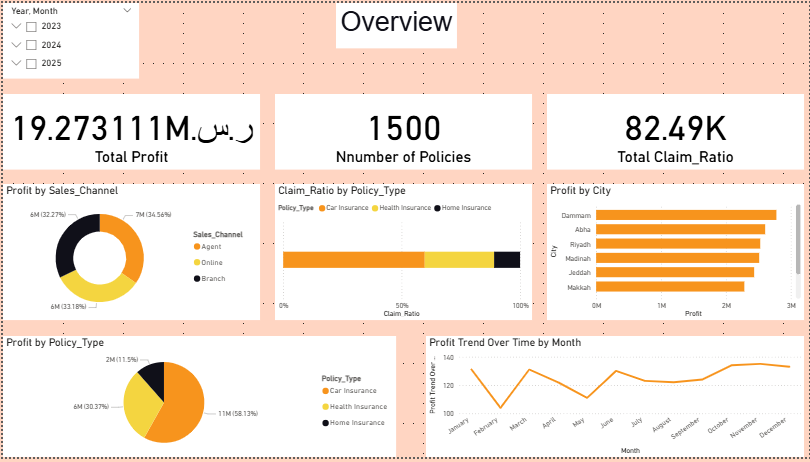

What the dashboard file says about the page in this screenshot:
{"tool":"powerbi","page":{"name":"Overview","canvas":[1280,720],"ordinal":0},"visuals":[{"type":"textbox","box":[528,0,192,72],"z":0},{"type":"card","fields":{"Values":["Sum(Sheet1 (2).Profit)"]},"box":[0,144,408,120],"z":1000},{"type":"card","fields":{"Values":["Sum(Sheet1 (2).Claim_Ratio)"]},"box":[864,144,408,120],"z":2000},{"type":"card","fields":{"Values":["Sheet1.Nnumber of Policies"]},"box":[432,144,408,120],"z":3000},{"type":"barChart","fields":{"Category":["Sheet1 (2).City"],"Y":["Sum(Sheet1 (2).Profit)"]},"box":[864,288,408,216],"z":4000},{"type":"hundredPercentStackedBarChart","fields":{"Series":["Sheet1 (2).Policy_Type"],"Y":["Sum(Sheet1 (2).Claim_Ratio)"]},"box":[432,288,408,216],"z":5000},{"type":"donutChart","fields":{"Category":["Sheet1 (2).Sales_Channel"],"Y":["Sum(Sheet1 (2).Profit)"]},"box":[0,288,408,216],"z":6000},{"type":"pieChart","fields":{"Y":["Sum(Sheet1 (2).Profit)"],"Category":["Sheet1 (2).Policy_Type"]},"box":[0,528,624,192],"z":7000},{"type":"lineChart","fields":{"Y":["CountNonNull(Sheet1 (2).total profit)"],"Category":["Sheet1 (2).Start_Date.Variation.Date Hierarchy.Month"]},"box":[672,528,600,192],"z":8000},{"type":"slicer","fields":{"Values":["Sheet1 (2).Start_Date.Variation.Date Hierarchy.Year","Sheet1 (2).Start_Date.Variation.Date Hierarchy.Month"]},"box":[0,0,216,120],"z":9000}]}

Visuals, with their boxes in screenshot pixels (x1, y1, x2, y2), scaled from the page's 1280x720 canvas onto the 810x462 screenshot:
textbox: <bbox>334, 0, 456, 46</bbox>
card - Sum(Sheet1 (2).Profit): <bbox>0, 92, 258, 169</bbox>
card - Sum(Sheet1 (2).Claim_Ratio): <bbox>547, 92, 805, 169</bbox>
card - Sheet1.Nnumber of Policies: <bbox>273, 92, 532, 169</bbox>
barChart - Sheet1 (2).City x Sum(Sheet1 (2).Profit): <bbox>547, 185, 805, 323</bbox>
hundredPercentStackedBarChart - Sheet1 (2).Policy_Type x Sum(Sheet1 (2).Claim_Ratio): <bbox>273, 185, 532, 323</bbox>
donutChart - Sheet1 (2).Sales_Channel x Sum(Sheet1 (2).Profit): <bbox>0, 185, 258, 323</bbox>
pieChart - Sum(Sheet1 (2).Profit) x Sheet1 (2).Policy_Type: <bbox>0, 339, 395, 461</bbox>
lineChart - CountNonNull(Sheet1 (2).total profit) x Sheet1 (2).Start_Date.Variation.Date Hierarchy.Month: <bbox>425, 339, 805, 461</bbox>
slicer - Sheet1 (2).Start_Date.Variation.Date Hierarchy.Year x Sheet1 (2).Start_Date.Variation.Date Hierarchy.Month: <bbox>0, 0, 137, 77</bbox>
